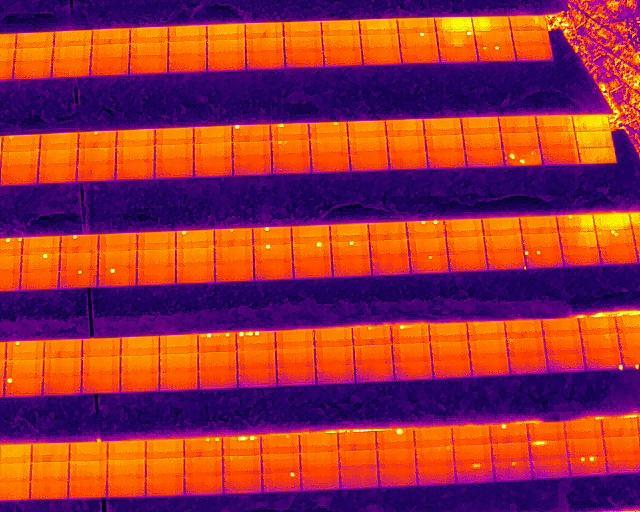Cell: (261, 471, 300, 492), (353, 325, 393, 345), (454, 463, 493, 483), (69, 440, 108, 460), (493, 461, 531, 481), (58, 269, 98, 288), (329, 241, 369, 260), (409, 254, 449, 273), (4, 378, 44, 397), (260, 434, 300, 453), (391, 325, 430, 344), (175, 228, 214, 247), (97, 268, 138, 286), (490, 424, 528, 443), (214, 228, 254, 246), (58, 235, 98, 253), (231, 124, 271, 142), (292, 241, 331, 259), (486, 251, 525, 269), (6, 341, 45, 359), (22, 253, 60, 271), (584, 352, 622, 370), (253, 244, 293, 261), (1, 135, 41, 152), (308, 122, 347, 139), (252, 227, 291, 244), (376, 431, 415, 448), (557, 215, 594, 232), (270, 124, 309, 140), (78, 131, 117, 147), (436, 31, 476, 46), (398, 32, 438, 47)
Cell-Multi: (183, 437, 222, 457), (222, 436, 261, 456), (197, 333, 237, 352), (568, 457, 607, 476), (235, 332, 275, 350), (405, 220, 445, 238), (525, 248, 562, 267), (596, 230, 635, 247), (407, 238, 446, 255), (271, 141, 310, 158), (503, 150, 543, 166), (476, 46, 516, 61)
No-Anomaly: (452, 423, 490, 446), (414, 425, 453, 447), (236, 350, 276, 371), (370, 256, 411, 276), (222, 473, 263, 493), (315, 366, 355, 386), (198, 351, 237, 371), (276, 348, 315, 368), (107, 440, 146, 460), (19, 270, 60, 289), (291, 259, 332, 278), (393, 361, 434, 380), (253, 261, 293, 280), (300, 471, 340, 490), (67, 479, 107, 498), (183, 475, 223, 494), (144, 477, 184, 496), (415, 447, 455, 466), (31, 443, 71, 462), (446, 252, 488, 270), (430, 324, 469, 343), (44, 339, 83, 358), (121, 337, 160, 356), (416, 466, 455, 485), (377, 467, 416, 486), (30, 481, 69, 500), (368, 222, 407, 241), (354, 345, 393, 364), (82, 358, 121, 377), (135, 268, 176, 286), (331, 259, 372, 277), (391, 344, 432, 362), (531, 460, 569, 479), (43, 377, 81, 396), (578, 318, 618, 336), (275, 330, 315, 348), (183, 457, 223, 475), (97, 233, 137, 251), (214, 264, 254, 282), (136, 249, 176, 267), (175, 247, 215, 265), (105, 478, 145, 496), (271, 158, 311, 176), (314, 347, 354, 365), (144, 440, 184, 458), (508, 356, 548, 374), (276, 369, 316, 387), (4, 360, 44, 378), (355, 365, 395, 383), (603, 437, 640, 456), (299, 452, 338, 470), (82, 339, 121, 357), (68, 461, 107, 479), (145, 458, 184, 476), (22, 235, 61, 253), (194, 144, 233, 162), (120, 357, 159, 375), (43, 359, 82, 377), (299, 434, 338, 452), (453, 446, 492, 464), (426, 152, 467, 169), (429, 342, 470, 359), (470, 359, 511, 376), (431, 360, 472, 377), (159, 337, 197, 355), (468, 323, 506, 341), (562, 247, 600, 265), (339, 467, 377, 485), (194, 127, 232, 145), (492, 443, 530, 461), (0, 167, 38, 185), (504, 322, 544, 339), (222, 455, 262, 472), (337, 450, 377, 467), (175, 266, 215, 283), (213, 247, 253, 264), (128, 57, 168, 74), (385, 120, 425, 137), (159, 356, 199, 373), (546, 355, 586, 372), (154, 146, 194, 163), (309, 139, 349, 156), (349, 154, 389, 171), (232, 159, 272, 176), (468, 342, 508, 359), (237, 371, 277, 388), (119, 376, 159, 393), (159, 374, 199, 391), (543, 319, 582, 336), (261, 454, 300, 471), (106, 461, 145, 478), (30, 463, 69, 480), (137, 232, 176, 249), (377, 449, 416, 466), (575, 131, 614, 148), (444, 219, 483, 236), (481, 217, 520, 234), (330, 224, 369, 241), (198, 372, 237, 389), (81, 377, 120, 394), (337, 433, 376, 450), (604, 456, 640, 474), (315, 329, 353, 346), (117, 130, 155, 147), (117, 148, 155, 165), (564, 421, 602, 438), (602, 419, 640, 436), (566, 438, 604, 455), (544, 338, 584, 354), (506, 339, 546, 355), (445, 236, 485, 252), (97, 252, 137, 268), (438, 46, 478, 62), (167, 56, 207, 72), (322, 50, 362, 66), (538, 133, 578, 149), (347, 122, 387, 138), (536, 117, 576, 133), (425, 135, 465, 151), (462, 134, 502, 150), (193, 162, 233, 178), (310, 157, 350, 173), (508, 15, 548, 31), (359, 34, 399, 50), (594, 213, 631, 230), (168, 26, 207, 42), (581, 336, 620, 352), (599, 248, 638, 264), (284, 50, 323, 66), (89, 58, 128, 74), (499, 117, 538, 133), (424, 119, 463, 135), (461, 118, 500, 134), (155, 129, 194, 145), (40, 134, 79, 150), (465, 151, 504, 167), (77, 149, 116, 165), (291, 225, 330, 241), (369, 240, 410, 255), (348, 139, 389, 154), (40, 151, 78, 167), (78, 165, 116, 181), (521, 217, 559, 233), (527, 423, 565, 439), (58, 254, 98, 269), (399, 47, 439, 62), (361, 49, 401, 64), (245, 51, 285, 66), (12, 62, 52, 77), (51, 60, 91, 75), (388, 154, 428, 169), (500, 134, 540, 149), (386, 138, 426, 153), (0, 152, 40, 167), (540, 149, 580, 164), (154, 163, 194, 178), (115, 165, 155, 180), (52, 31, 92, 46), (283, 21, 322, 36), (244, 23, 283, 38), (321, 21, 360, 36), (484, 234, 523, 249), (472, 17, 511, 32), (558, 232, 597, 247), (359, 19, 398, 34), (571, 116, 610, 131), (232, 143, 271, 158), (91, 30, 130, 45), (37, 167, 78, 181), (514, 45, 552, 60), (130, 28, 168, 43), (206, 24, 246, 38), (128, 43, 168, 57), (206, 53, 246, 67), (14, 34, 54, 48), (579, 148, 616, 163), (206, 39, 245, 53), (168, 42, 207, 56), (322, 36, 361, 50), (474, 31, 513, 45), (51, 47, 92, 60), (523, 233, 561, 247), (398, 18, 436, 32), (13, 48, 53, 61), (283, 36, 323, 49), (435, 18, 474, 31), (90, 45, 129, 58), (511, 32, 550, 45), (245, 37, 284, 49)
Unclassified: (530, 440, 567, 460)
